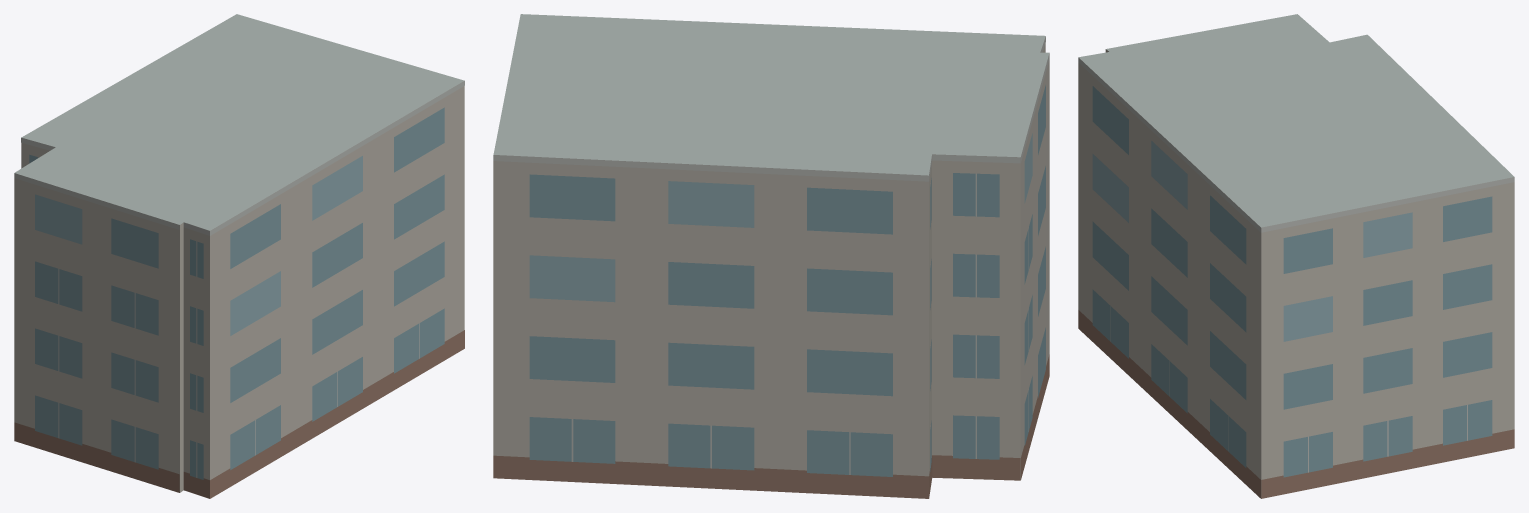
File: survey-upis-32688176.glb
3 views of the same model, side by side, from view 1: azimuth 30°, elevation 25°; view 2: azimuth 150°, elevation 25°; view 3: azimuth 270°, elevation 25° (orthographic). The views are drawn at different scales.
Parts seen in each view (by area): view 1: survey-upis-32688176.tmp; view 2: survey-upis-32688176.tmp; view 3: survey-upis-32688176.tmp.
Part boxes in pixels (left/top/right/bottom): survey-upis-32688176.tmp: left=14, top=14, right=464, bottom=498; survey-upis-32688176.tmp: left=493, top=14, right=1049, bottom=498; survey-upis-32688176.tmp: left=1078, top=14, right=1514, bottom=498.
Size of the model in its own units: 21.63 by 12.8 by 18.67.
